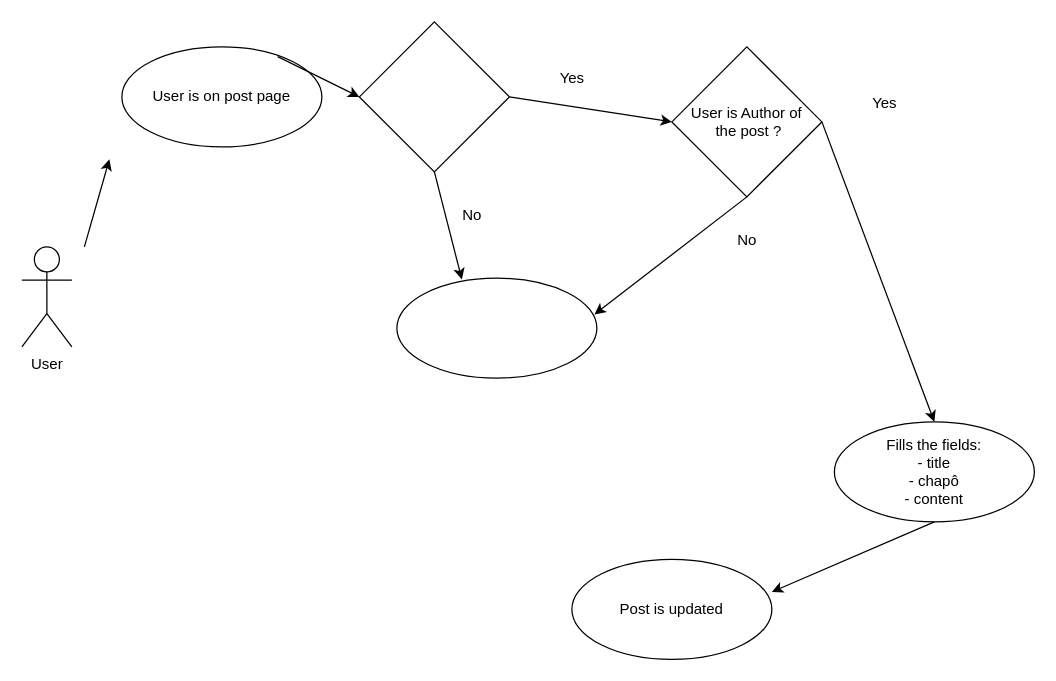
Image size: 1056x681. Some labels were removed from this diagram. Here are the shapes that lost their labels. From the top down, the box of each, then its label:
(358, 21, 509, 172): User is logged in ?
(396, 277, 597, 378): button doesn't display
